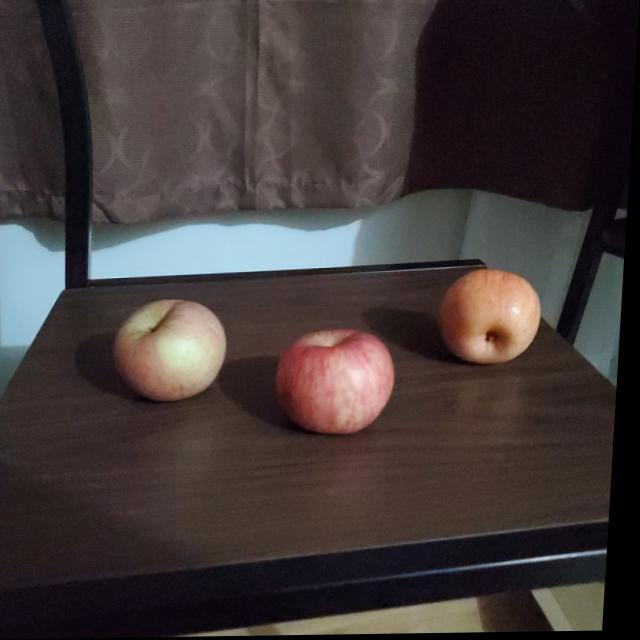apple: (279, 329, 401, 433), (120, 302, 237, 402), (439, 268, 546, 363)
